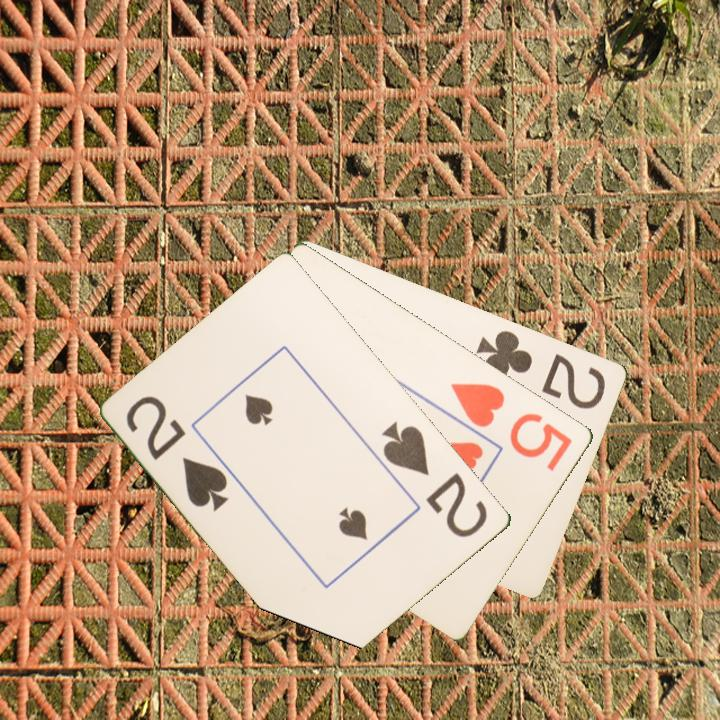2c: (473, 326, 609, 412)
2s: (378, 418, 492, 541), (122, 392, 233, 514)
5h: (447, 379, 576, 475)
